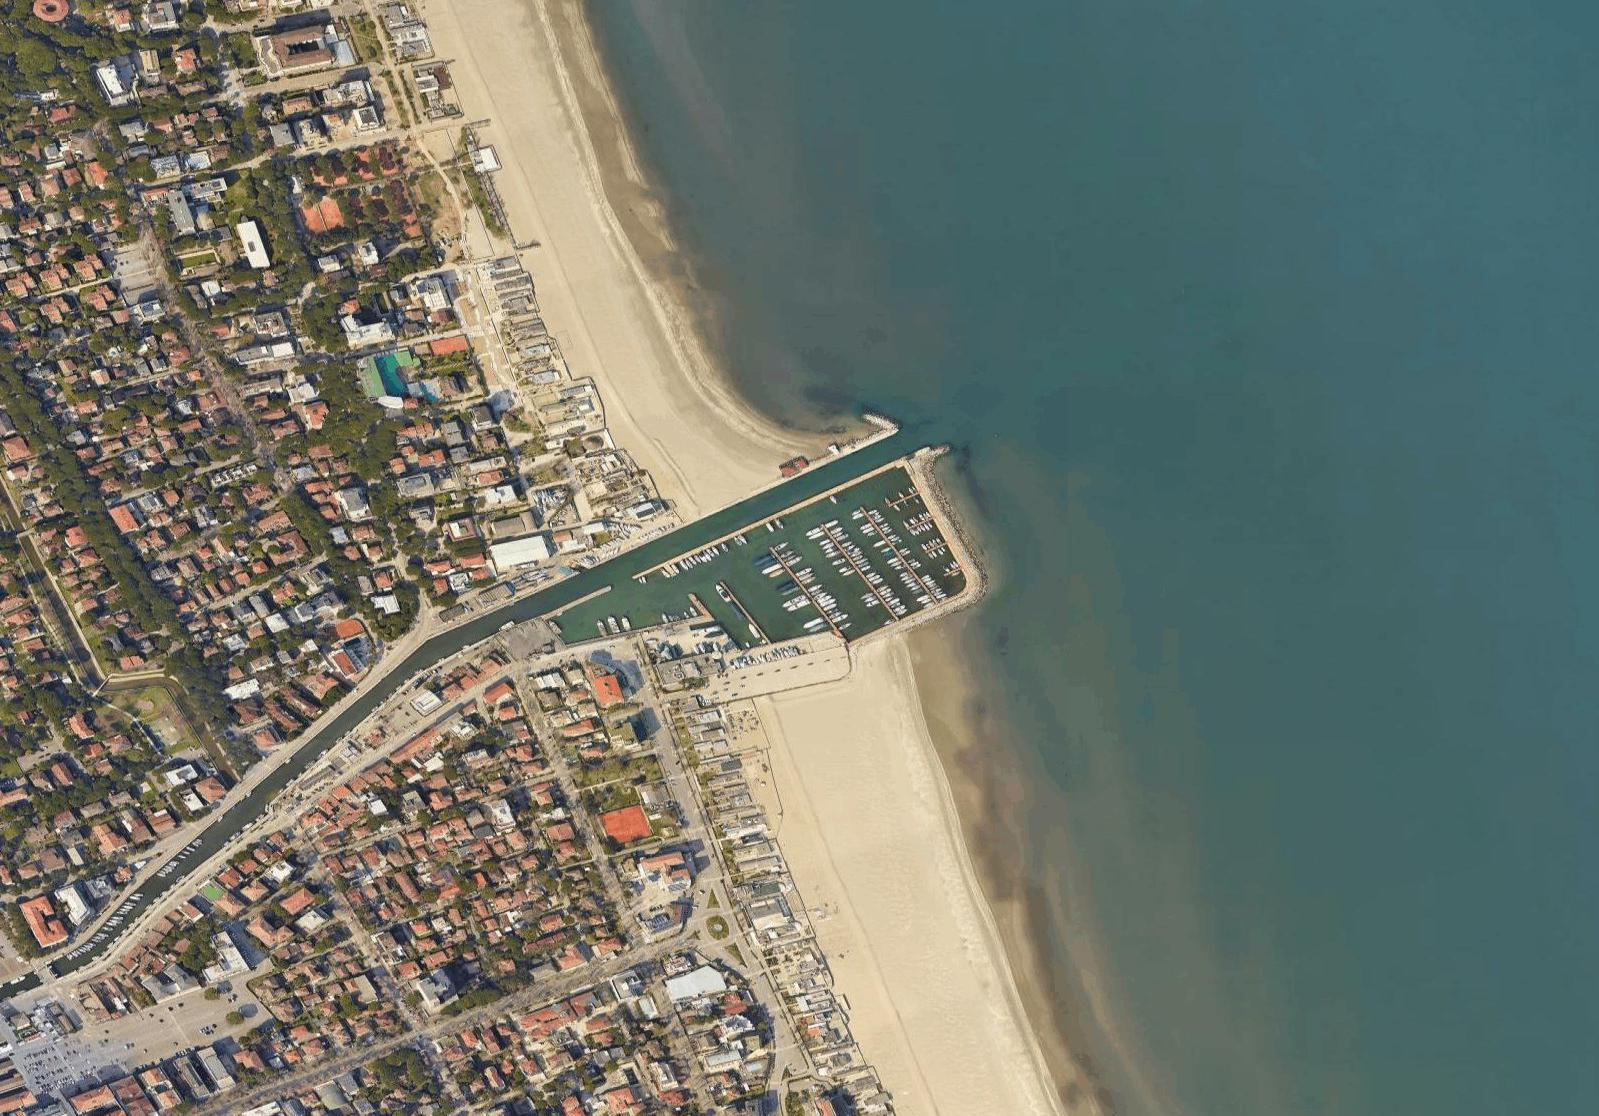harbor: (561, 387, 990, 695)
